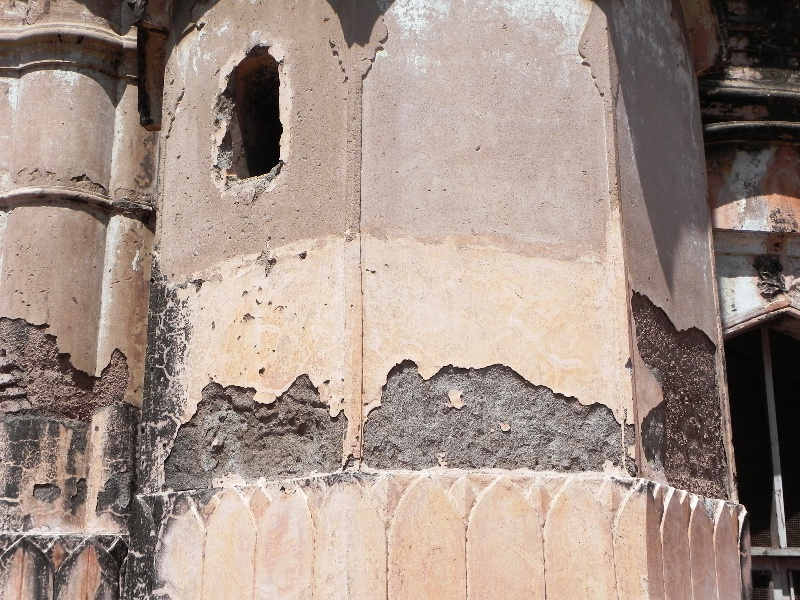Spalling: (360, 346, 623, 480), (630, 281, 732, 510), (154, 376, 354, 474), (1, 308, 126, 425)
